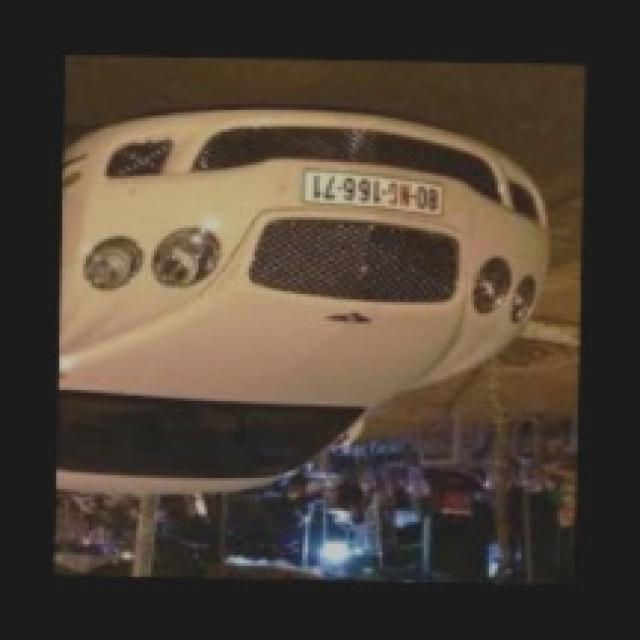bien_ngoai_giao: (300, 169, 446, 224)
